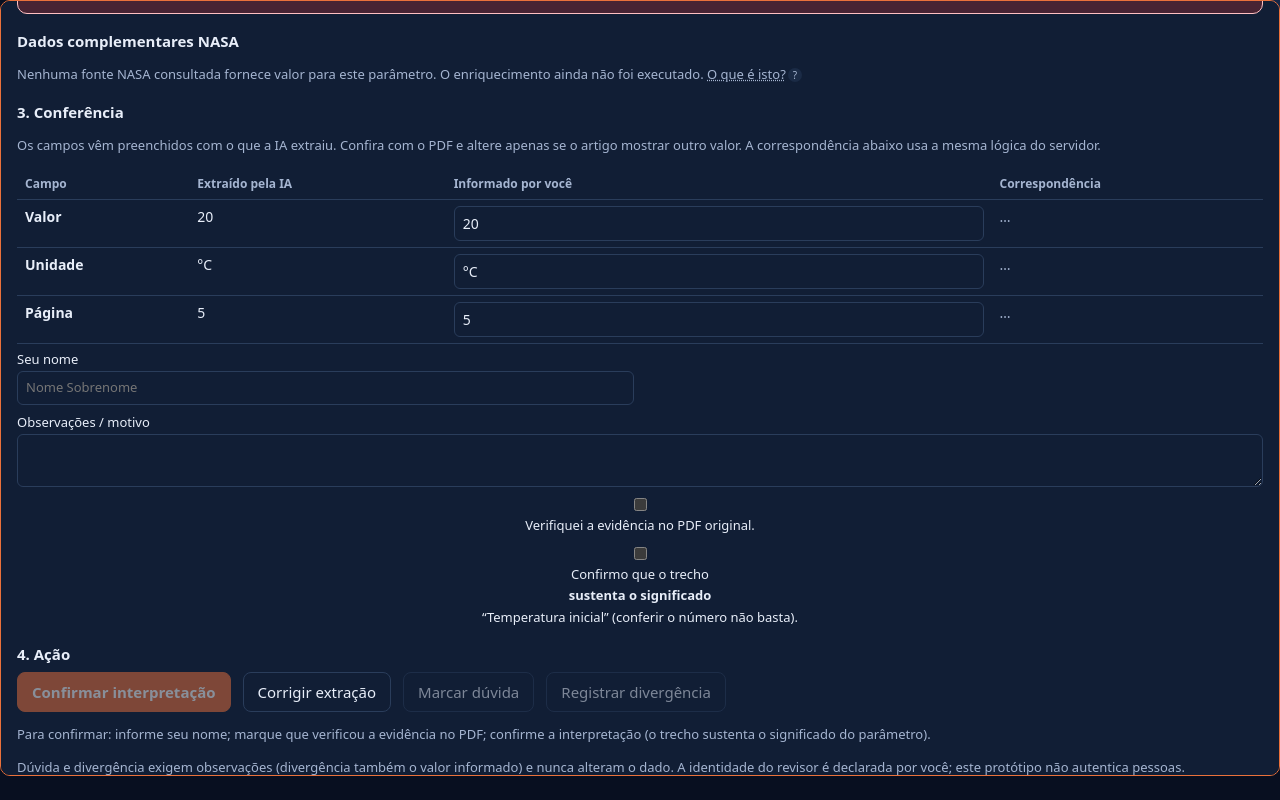
Test case: D. ações: corrigir, dúvida, divergência › dúvida exige observações e divergência exige também o valor
The width and height of the screenshot is (1280, 800).
(page scrolled)
Type "Ana Souza" into the field labelled "Seu nome". click: (326,388)
box: [17,371,634,404]
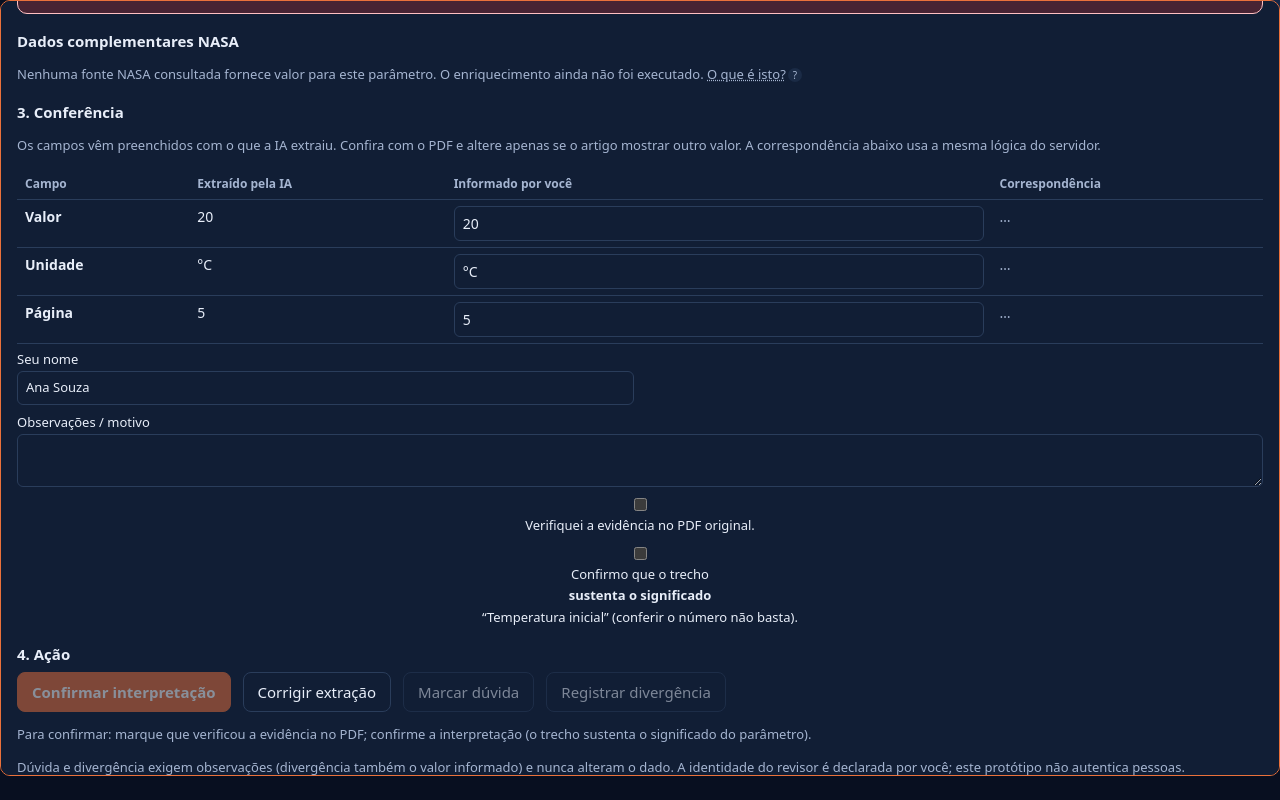
Check: the button "Marcar dúvida" is disabled, box [403,672,534,712]
Check: the button "Registrar divergência" is disabled, box [546,672,726,712]
Type "ilegível" into the text box labelled "Observações / motivo". click: (640,460)
box: [17,434,1263,487]
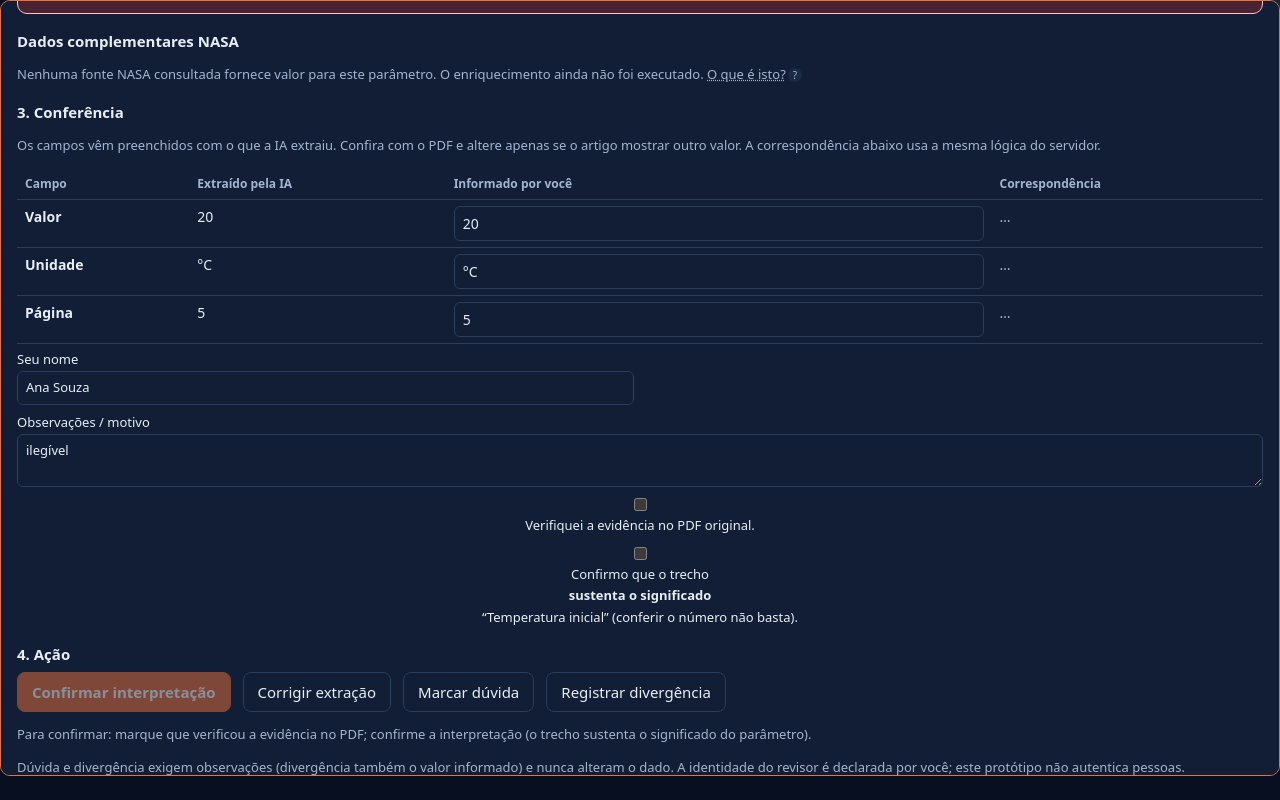
Check: the button "Marcar dúvida" is enabled, box [403,672,534,712]
Check: the button "Registrar divergência" is enabled, box [546,672,726,712]
Clear the field named "Valor informado". click: (719,223)
box: [454,206,984,240]
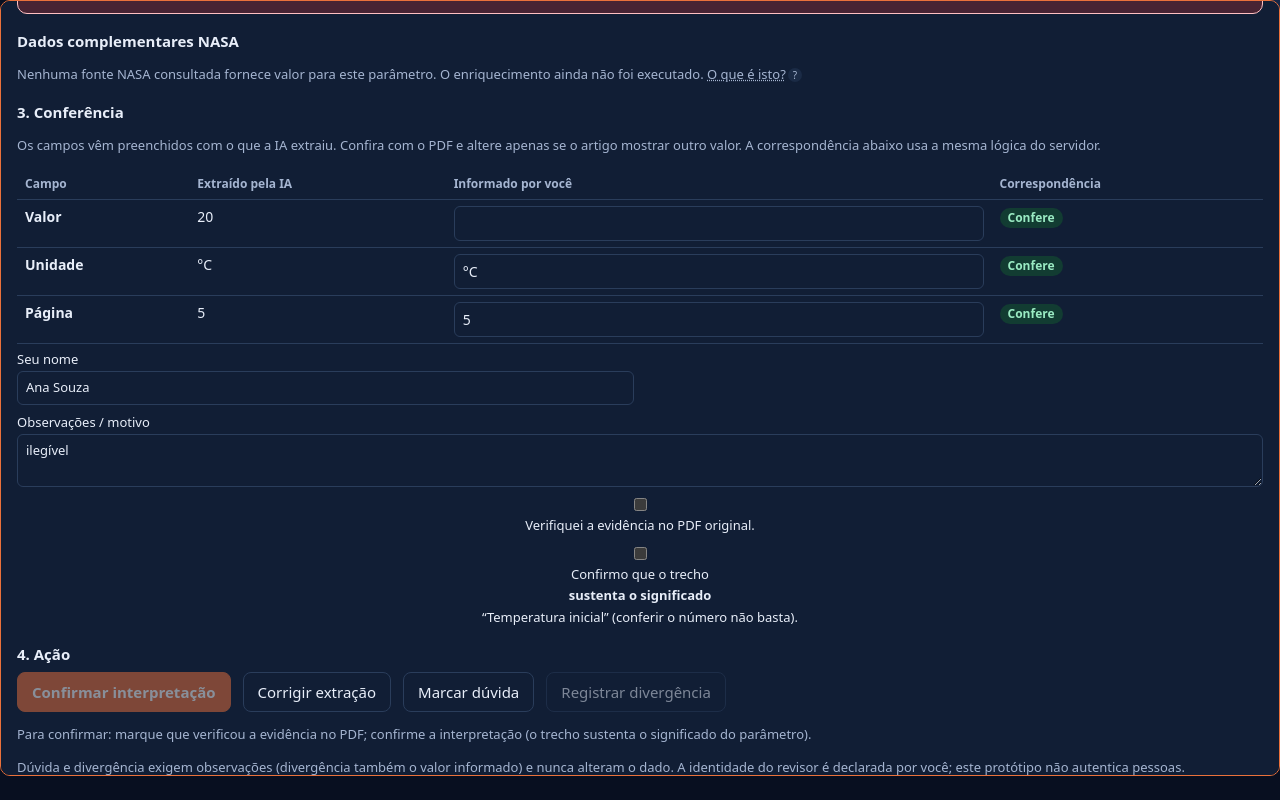
Check: the button "Registrar divergência" is disabled, box [546,672,726,712]
